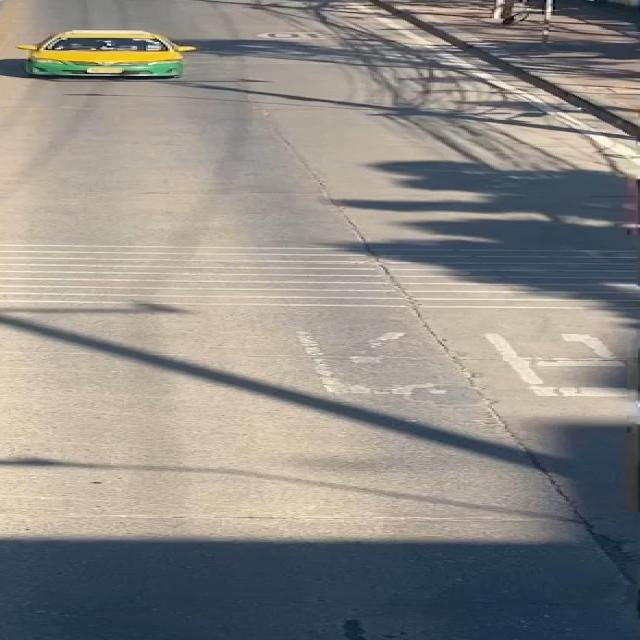car: (3, 19, 218, 96)
